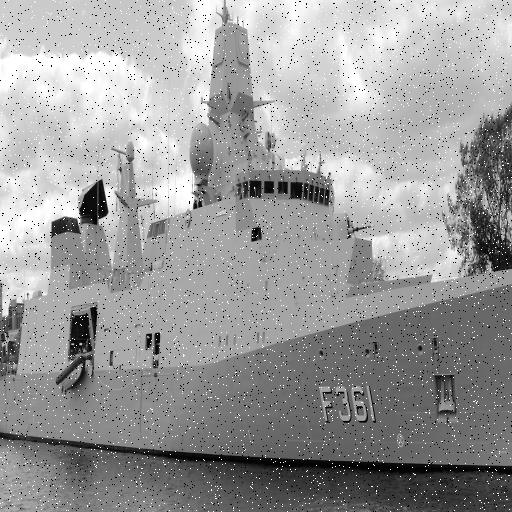Fragata: (1, 1, 512, 490)
